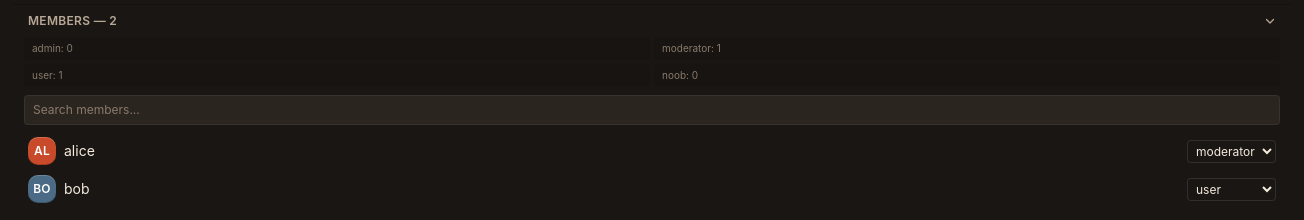
Scenario: MembersPanel — role change regression › shows an empty search state when no members match
In the search field with test id "member-search-input": {"x": 652, "y": 110} [24, 95, 1280, 125], type "nobody"
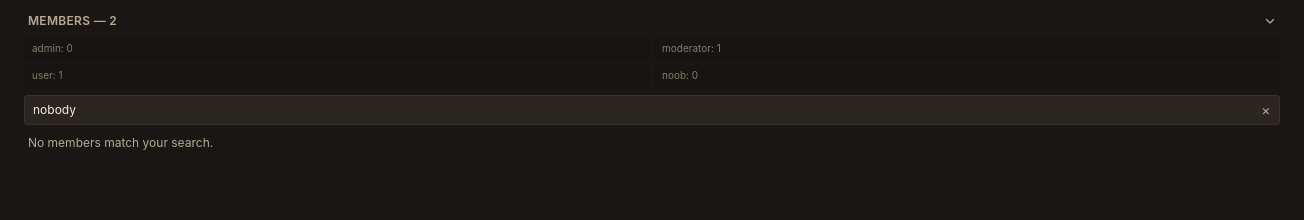
Check: the text "No members match your search." is shown, box [28, 135, 213, 150]
